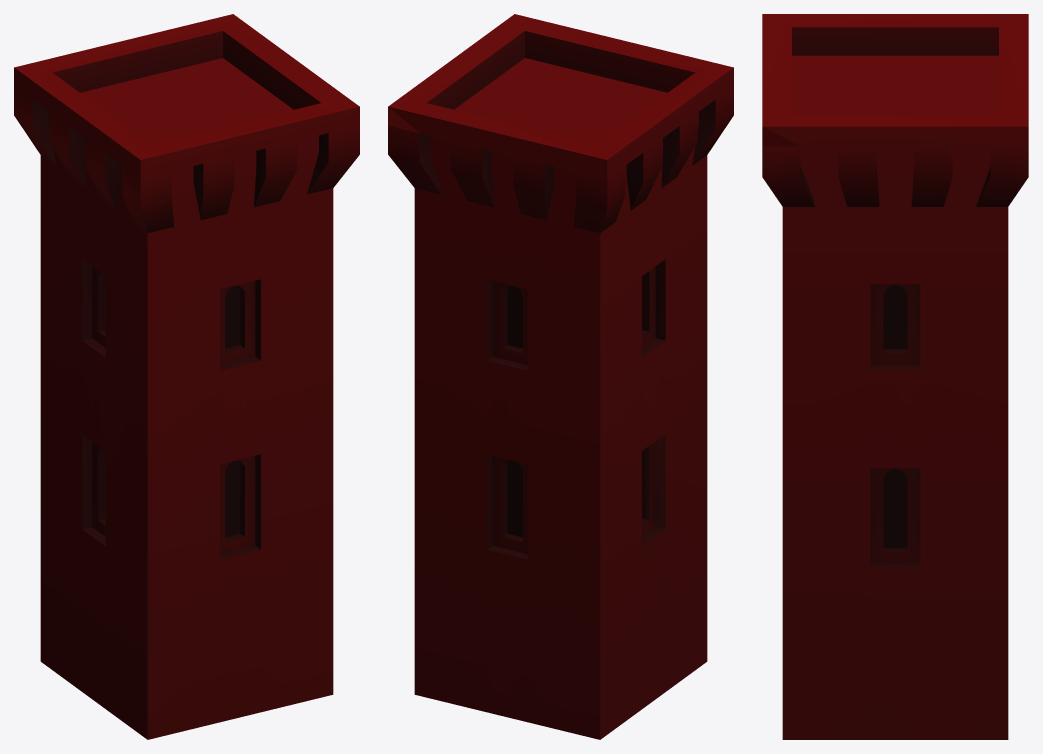
The model's file is buildings-ruins-castleruins_v8.fbx.
3 views of the same model, side by side, from view 1: azimuth 30°, elevation 25°; view 2: azimuth 150°, elevation 25°; view 3: azimuth 270°, elevation 25° (orthographic). The views are drawn at different scales.
Visible parts, largest first — view 1: CastleRuins_v8; view 2: CastleRuins_v8; view 3: CastleRuins_v8.
Boxes of the visible parts, bbox=[...] form: CastleRuins_v8: bbox=[14, 14, 359, 739]; CastleRuins_v8: bbox=[388, 14, 733, 739]; CastleRuins_v8: bbox=[762, 14, 1028, 739].
Bounding box in the file's own units: 10.67 × 27.49 × 10.67.
